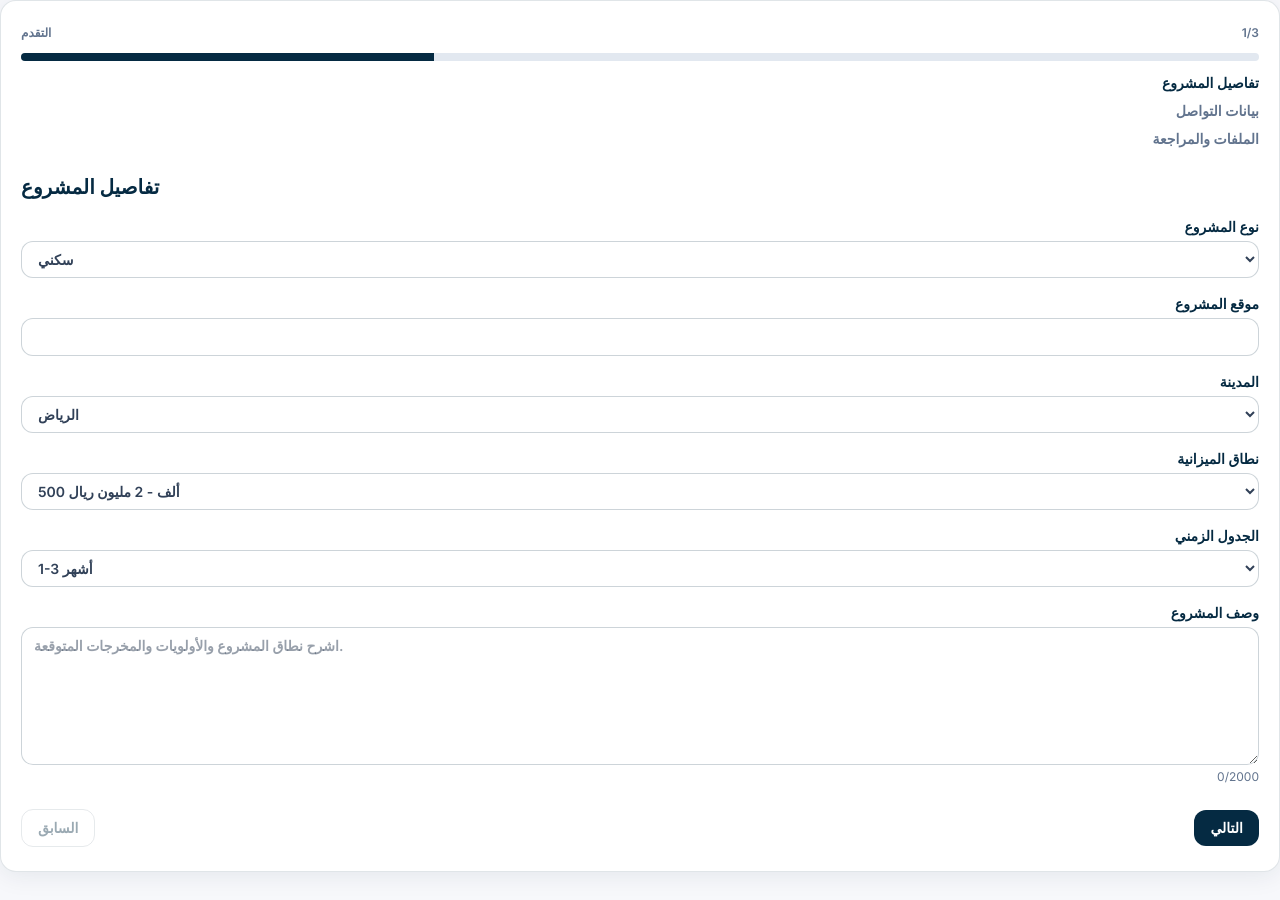
Test: RFQForm › shows Arabic validation copy and RTL step alignment
This screenshot has width=1280, height=900.
What coordinates should you click on to do the following:
click the button "التالي"
I would click on:
 (1227, 828)
Its box is [1194, 810, 1259, 846].
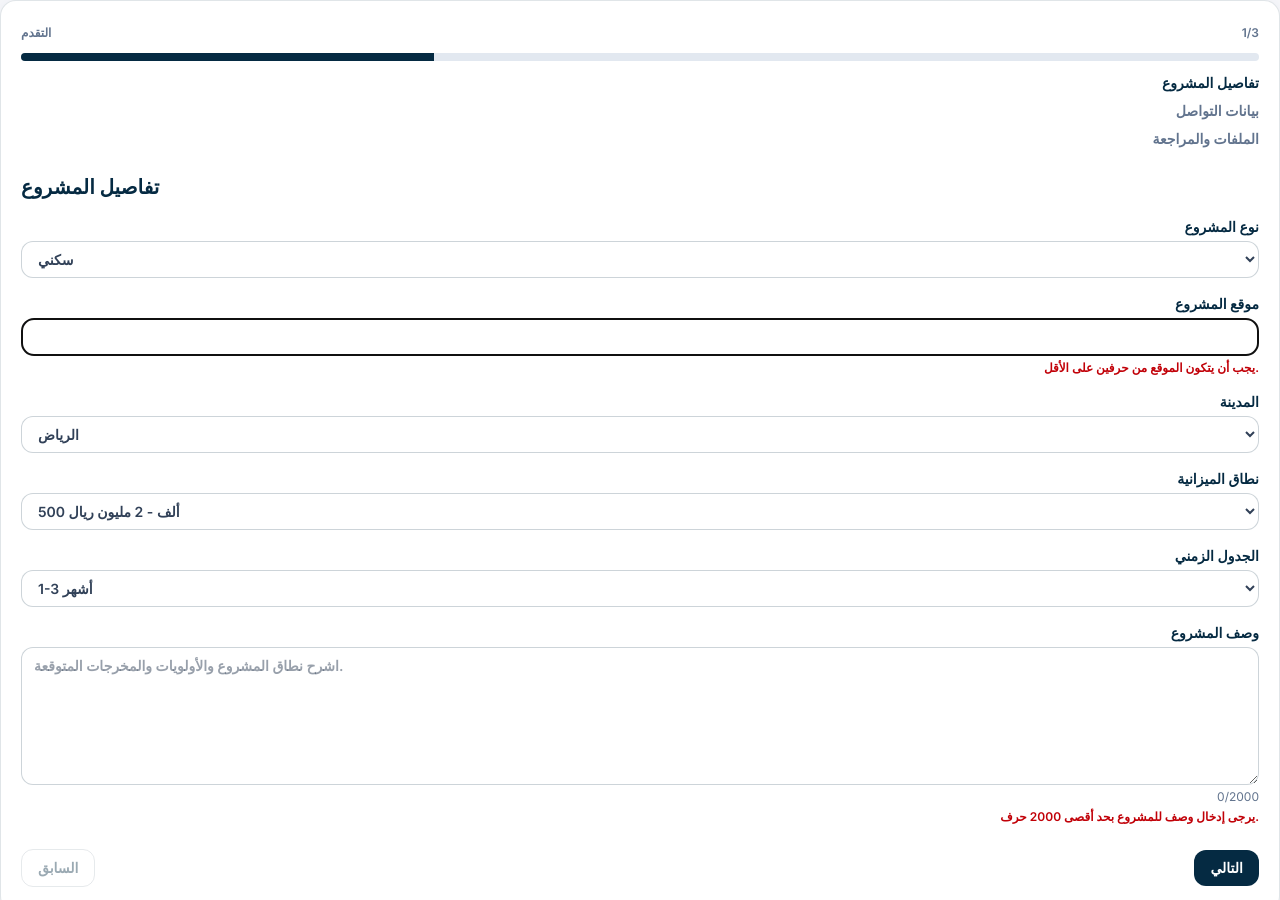
Expected: the text "يجب أن يتكون الموقع من حرفين على الأقل." is shown, [1044, 360, 1259, 375]
